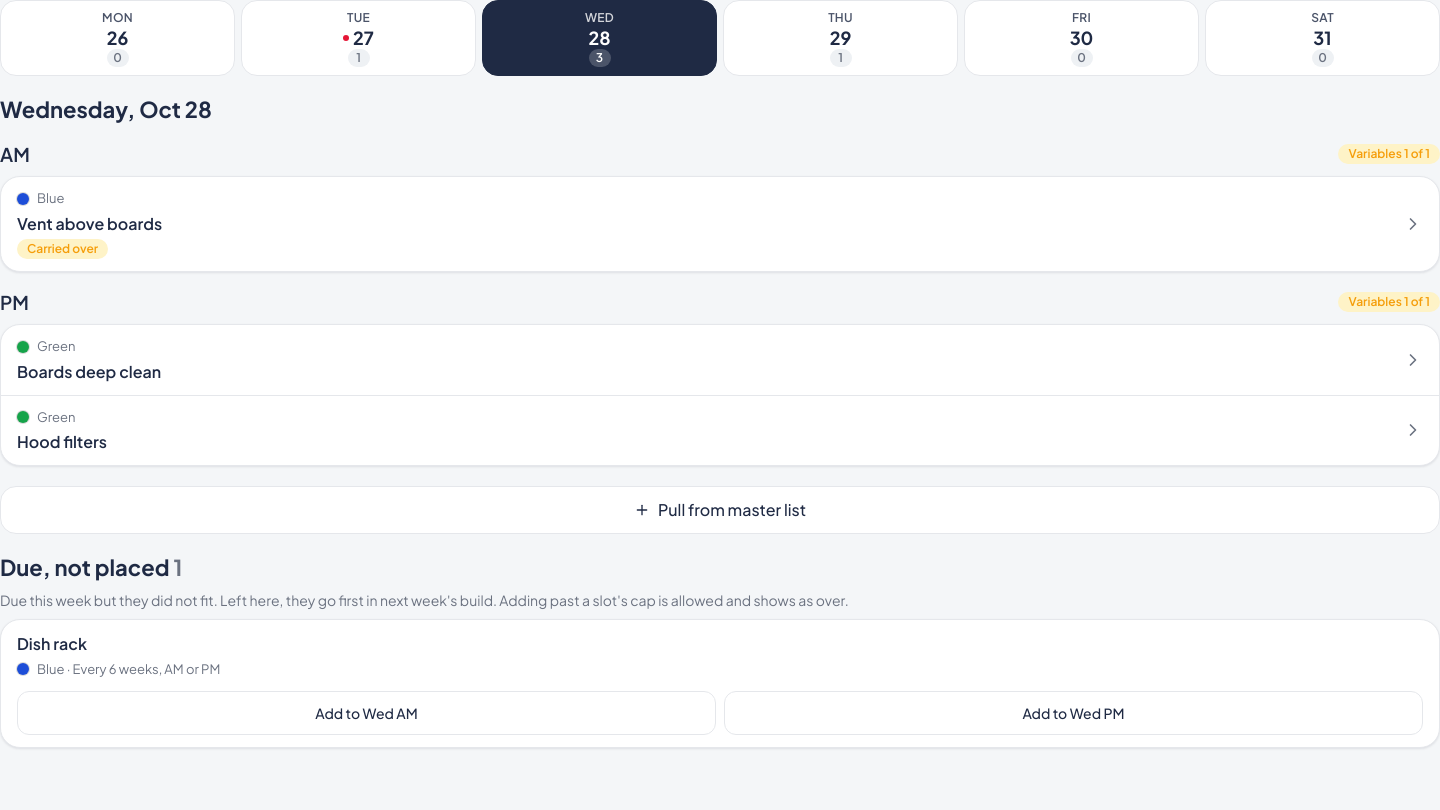
a planner › refreshes the board after a change
Click the button "Green Hood filters" at (56, 416), box [1,396,1439,465]
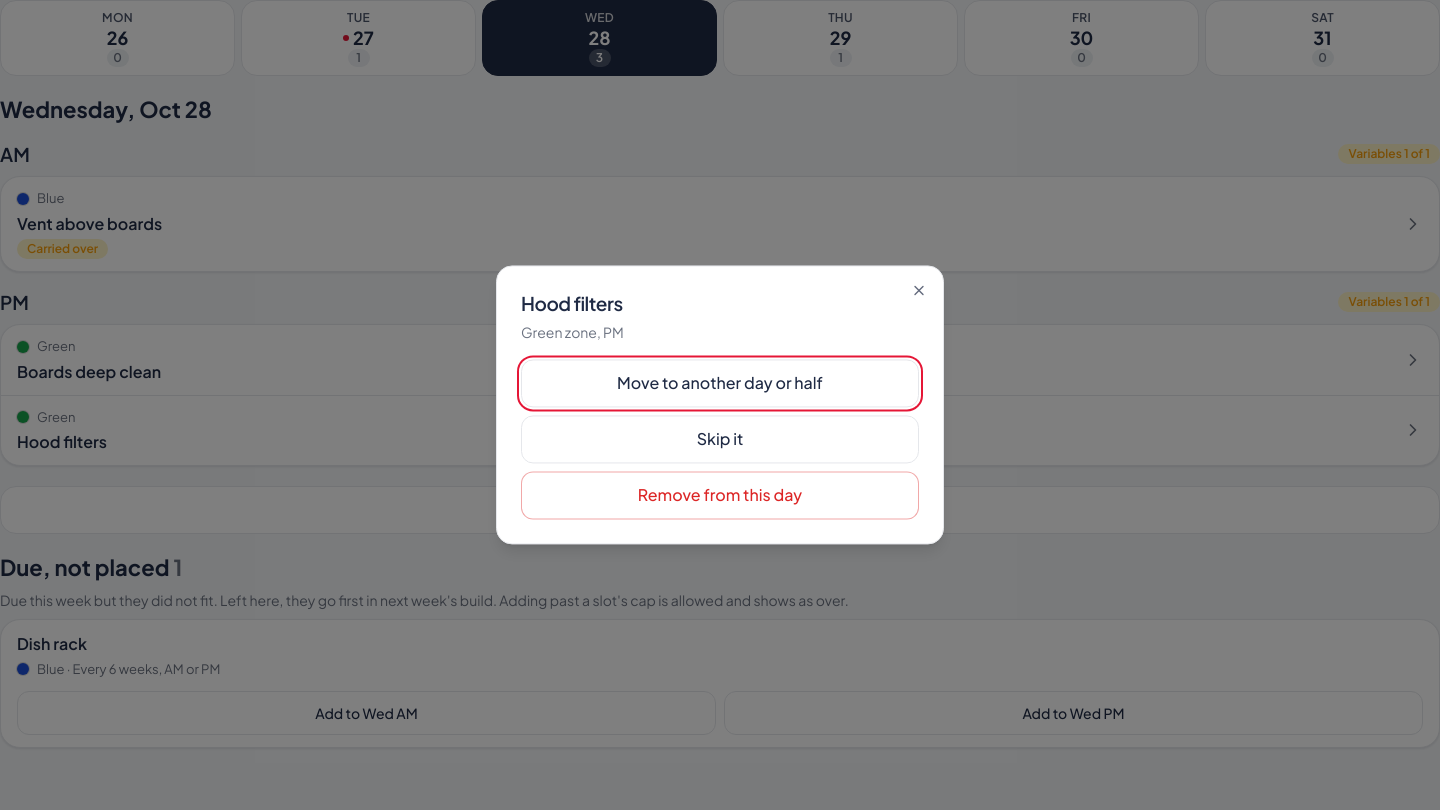
Click the button "Move to another day or half" at (720, 384), box [521,360,919,408]
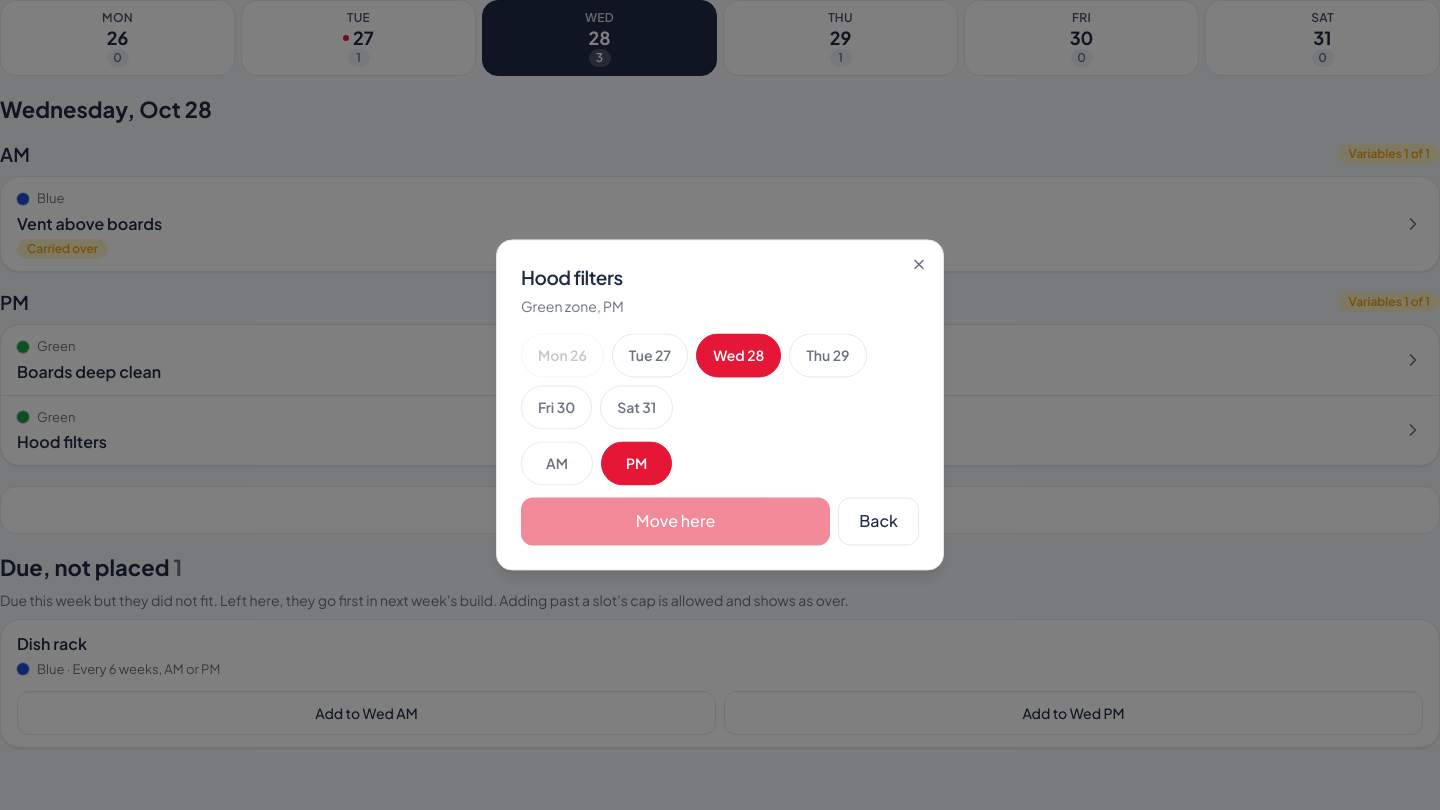
Click the button "Fri 30" at (557, 408), box [521,386,592,430]
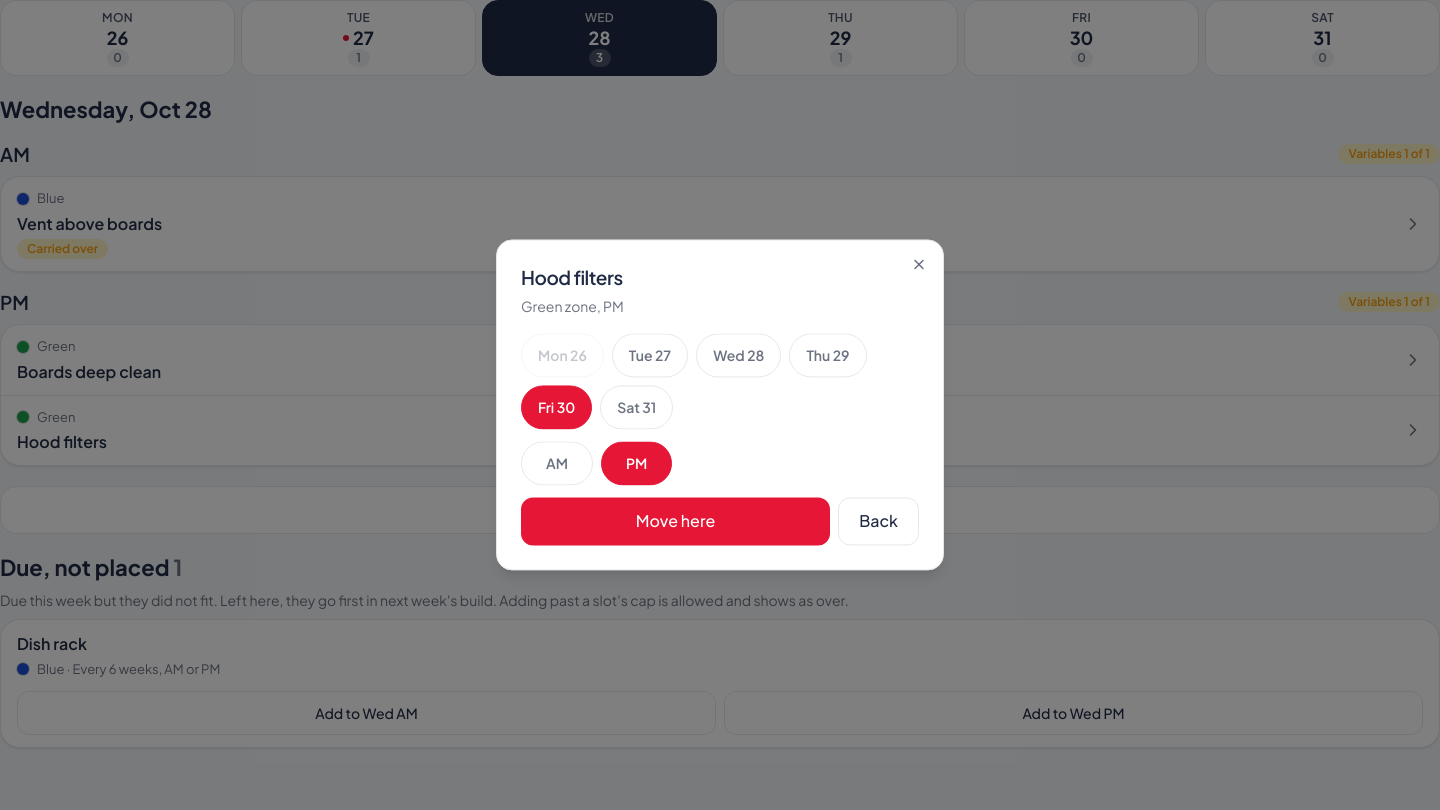
Click the button "Move here" at (676, 522), box [521,498,830,546]
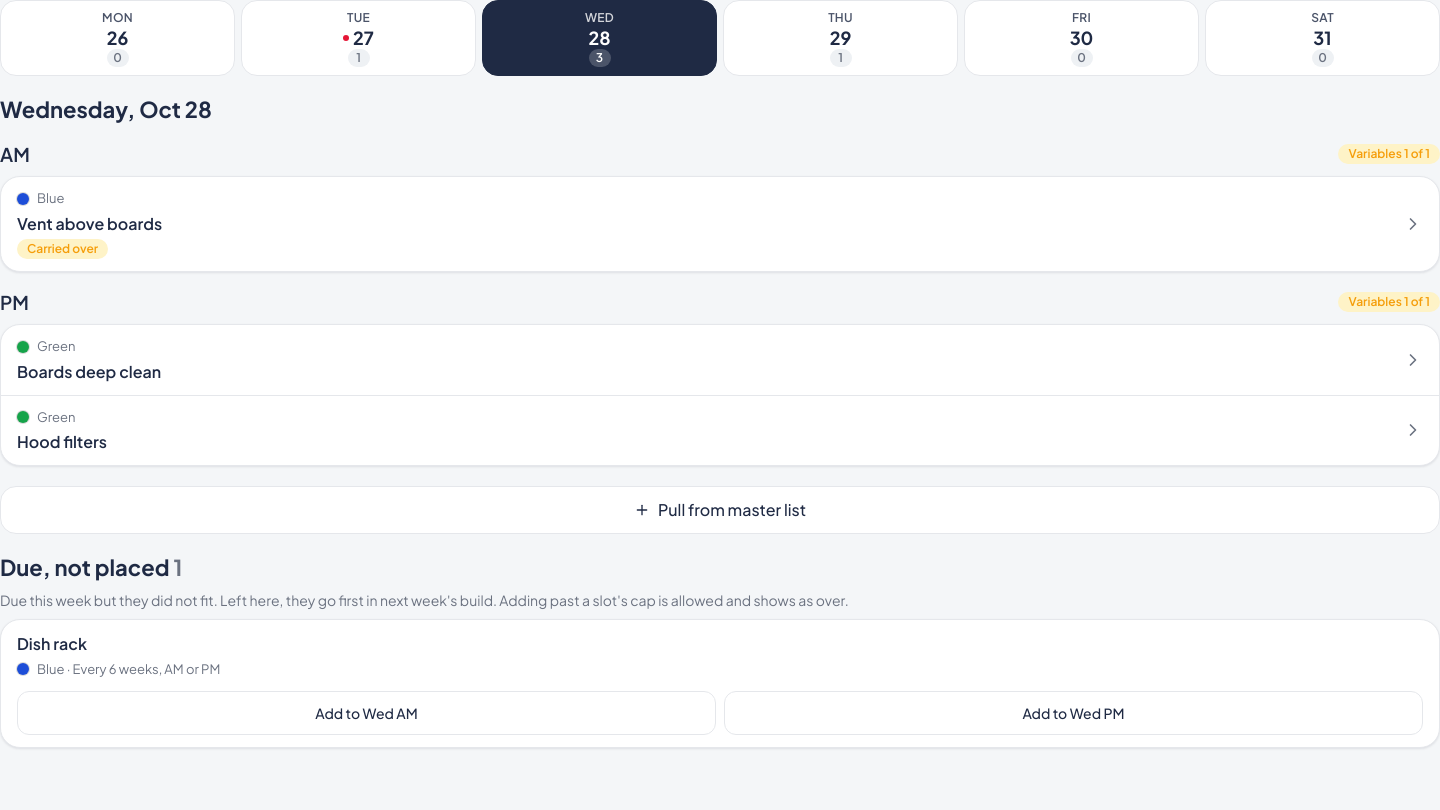
Now the dialog is gone
